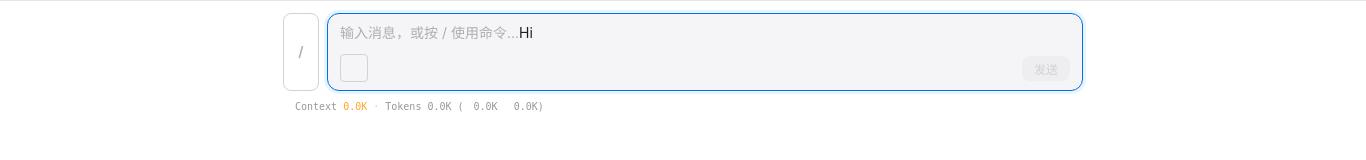
Test: InputArea › should show character count
Clear the field with test id "message-input" at point(526, 32), box 519,24 -> 533,41
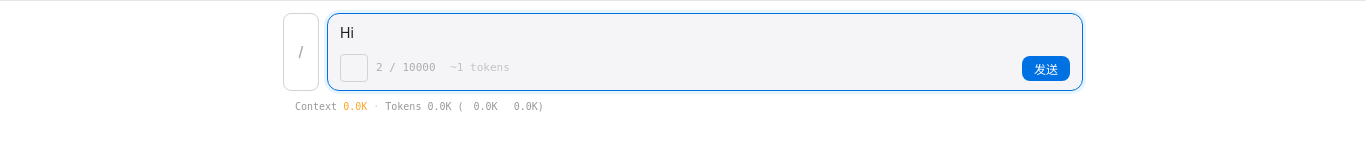
expect the element with test id "char-count" shows "2": met, box 376,61 -> 442,74
